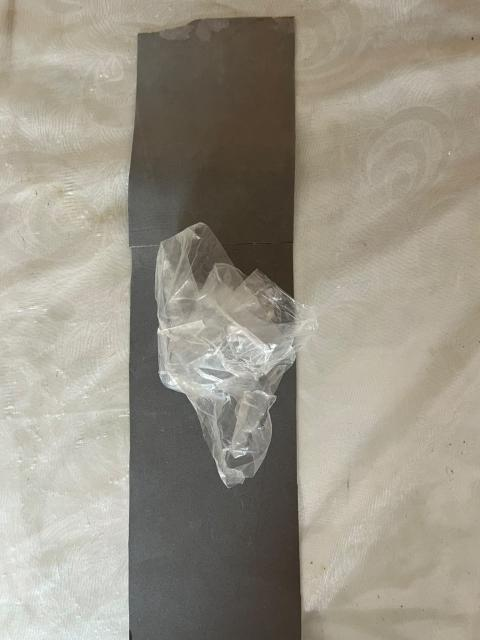LDPE: (140, 203, 333, 507)
